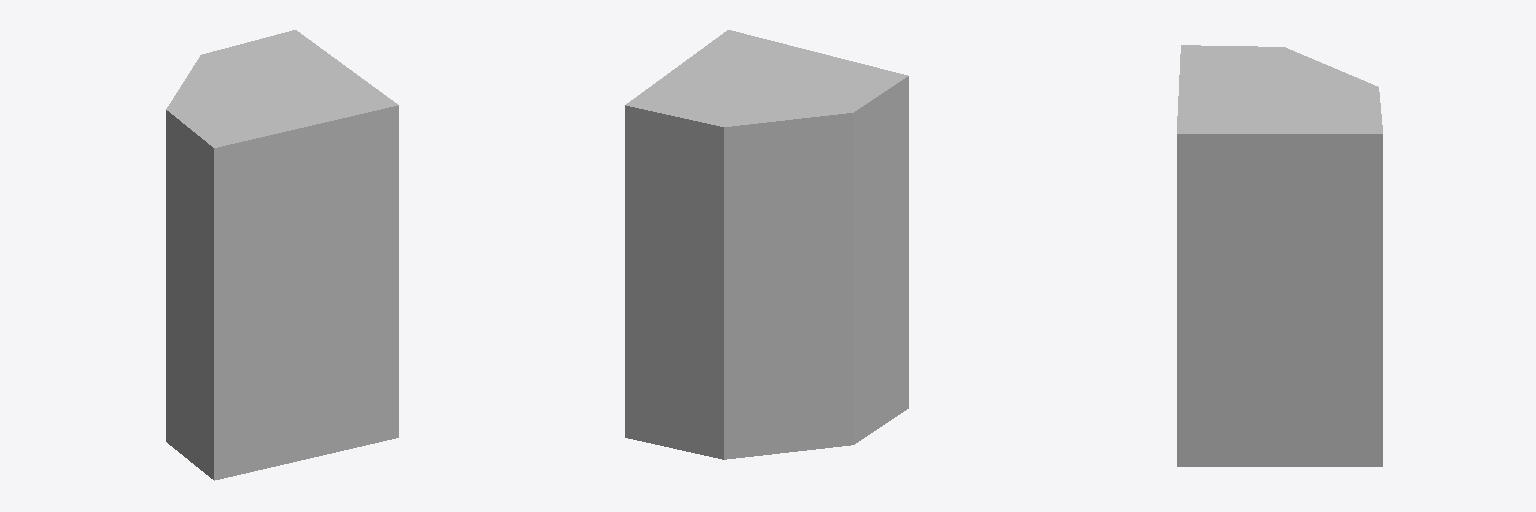
File: New Game Object (94).obj
3 renders of one model, left to right at view 1: azimuth 30°, elevation 25°; view 2: azimuth 150°, elevation 25°; view 3: azimuth 270°, elevation 25°, orthographic.
Parts seen in each view (by area): view 1: New Game Object (94); view 2: New Game Object (94); view 3: New Game Object (94).
Boxes of the visible parts, x1,y1,x2,y2 form: New Game Object (94): [166, 30, 398, 480]; New Game Object (94): [625, 30, 908, 459]; New Game Object (94): [1177, 45, 1382, 466].
Bounding box in the file's own units: 6.42 × 11.17 × 6.29.